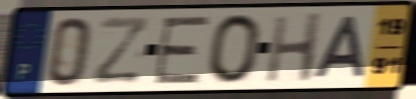0: (45, 15, 93, 89)
A: (310, 14, 369, 81)
E: (151, 13, 214, 86)
H: (263, 11, 325, 85)
O: (206, 12, 264, 87)
Z: (89, 15, 152, 87)
